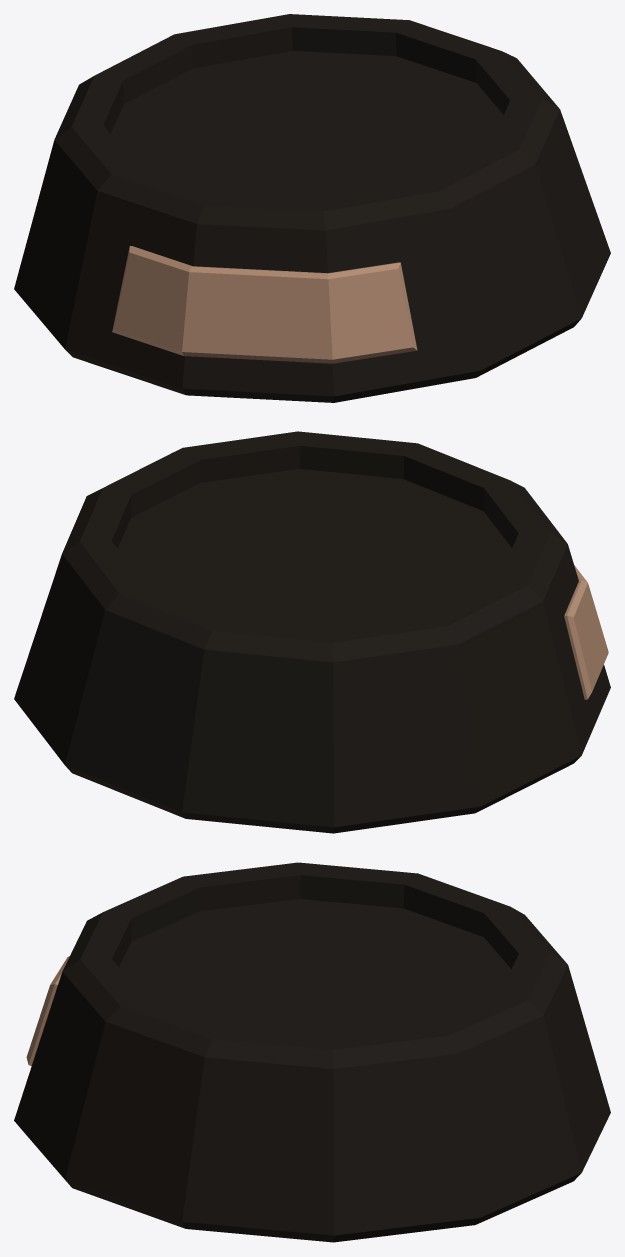
Rendered from ForBlueBall.fbx.
3 views of the same model, one above another, from view 1: azimuth 30°, elevation 25°; view 2: azimuth 150°, elevation 25°; view 3: azimuth 270°, elevation 25° (orthographic).
Parts seen in each view (by area): view 1: For ball; view 2: For ball; view 3: For ball.
Part boxes in pixels (x1,y1,x2,y2): For ball: [14, 14, 610, 402]; For ball: [14, 431, 610, 833]; For ball: [14, 862, 610, 1242].
Size of the model in its own units: 26.9 by 9.14 by 26.9.
